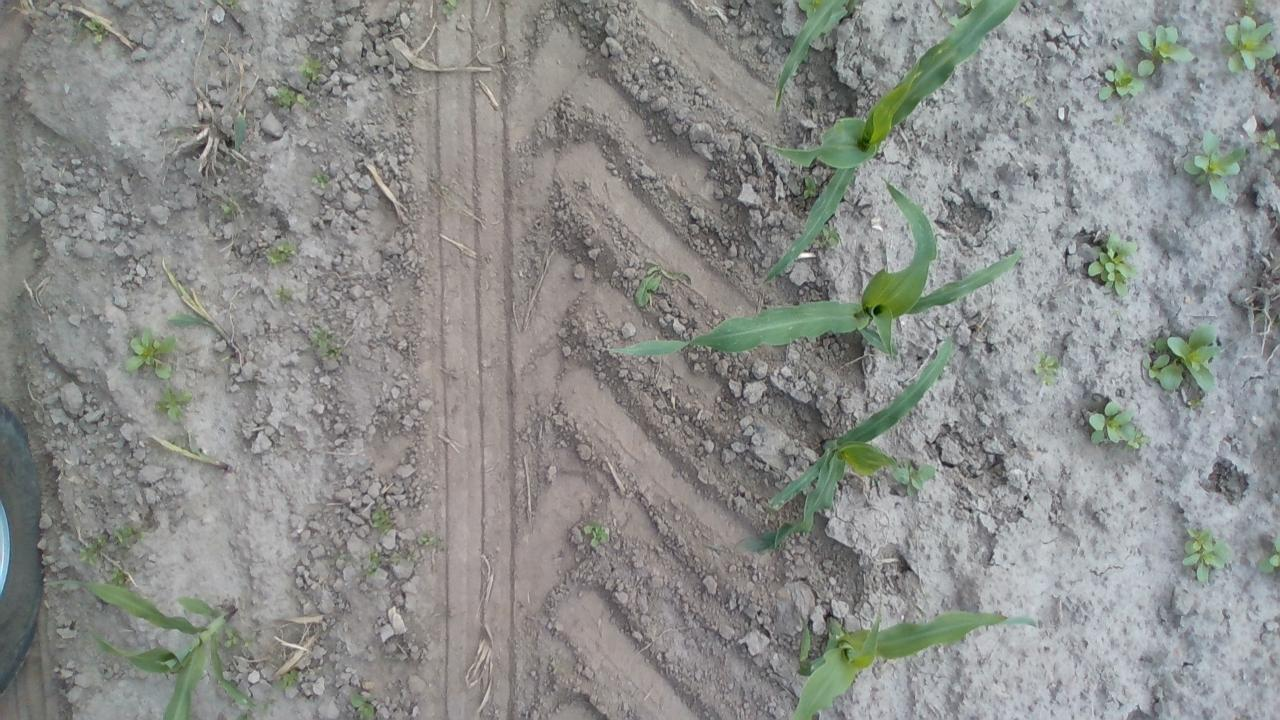Maize: (604, 178, 1025, 361), (759, 0, 1028, 279), (732, 340, 962, 554), (788, 600, 1036, 718), (51, 576, 254, 718), (776, 0, 861, 117)
Weeds: (1145, 314, 1216, 401), (362, 505, 442, 581), (1182, 127, 1248, 206), (1080, 385, 1150, 457), (64, 528, 158, 576), (1217, 14, 1278, 78), (1134, 26, 1196, 85), (1086, 229, 1138, 299), (1182, 524, 1226, 584), (117, 329, 176, 372), (1097, 61, 1143, 113), (892, 461, 940, 502), (154, 382, 197, 417), (298, 54, 342, 88), (1026, 350, 1062, 390), (583, 520, 622, 554), (267, 85, 303, 119), (72, 20, 111, 50), (1258, 530, 1280, 580), (1258, 120, 1280, 170), (268, 236, 298, 269), (222, 628, 246, 656), (312, 168, 340, 192), (818, 227, 842, 253), (348, 696, 376, 716), (440, 0, 462, 22), (801, 175, 819, 200), (282, 676, 308, 692)
